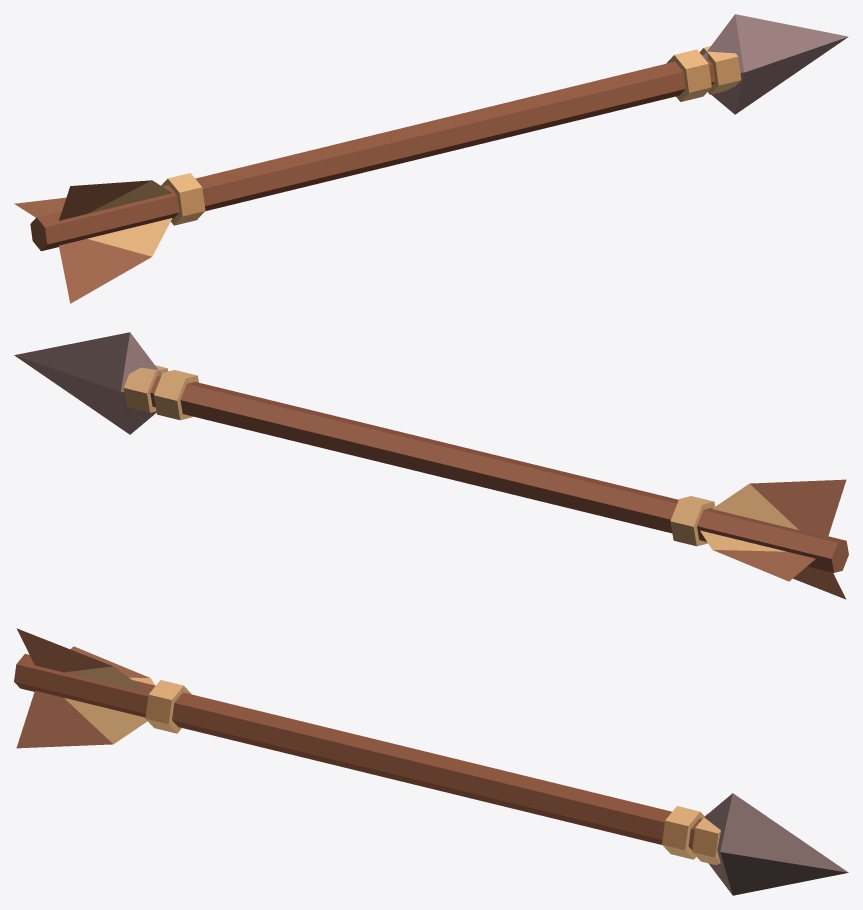
File: Stone_Arrow.glb
The picture shows the model from 3 angles, top to bottom: view 1: azimuth 30°, elevation 25°; view 2: azimuth 150°, elevation 25°; view 3: azimuth 330°, elevation 25°; orthographic projection. The views are drawn at different scales.
Parts seen in each view (by area): view 1: Arrow shaft, Stylized flint point, Feather vane.002, Feather vane.001, Pale binding, Pale binding.002, Pale binding.001, Feather vane; view 2: Arrow shaft, Stylized flint point, Feather vane.001, Feather vane, Pale binding, Pale binding.002, Pale binding.001, Feather vane.002; view 3: Arrow shaft, Stylized flint point, Feather vane.002, Feather vane.001, Pale binding.002, Pale binding, Pale binding.001, Feather vane.
Part boxes in pixels (<box>): Arrow shaft: <box>30,54,715,251</box>; Stylized flint point: <box>703,14,848,114</box>; Feather vane.002: <box>59,218,172,303</box>; Feather vane.001: <box>59,180,172,220</box>; Pale binding: <box>666,49,711,101</box>; Pale binding.002: <box>161,173,205,225</box>; Pale binding.001: <box>699,46,741,94</box>; Feather vane: <box>14,197,66,217</box>; Arrow shaft: <box>150,376,848,572</box>; Stylized flint point: <box>14,332,161,434</box>; Feather vane.001: <box>712,479,846,537</box>; Feather vane: <box>700,530,815,581</box>; Pale binding: <box>154,370,198,420</box>; Pale binding.002: <box>670,496,714,546</box>; Pale binding.001: <box>123,365,168,412</box>; Feather vane.002: <box>793,566,846,599</box>; Arrow shaft: <box>14,654,701,849</box>; Stylized flint point: <box>699,793,848,895</box>; Feather vane.002: <box>16,690,147,748</box>; Feather vane.001: <box>16,628,149,693</box>; Pale binding.002: <box>145,680,191,733</box>; Pale binding: <box>662,806,704,859</box>; Pale binding.001: <box>692,813,720,864</box>; Feather vane: <box>70,646,155,685</box>.
Bounding box in the file's own units: 0.9599 × 0.1334 × 0.1155.
Materials: 1 (1 with a texture image).
